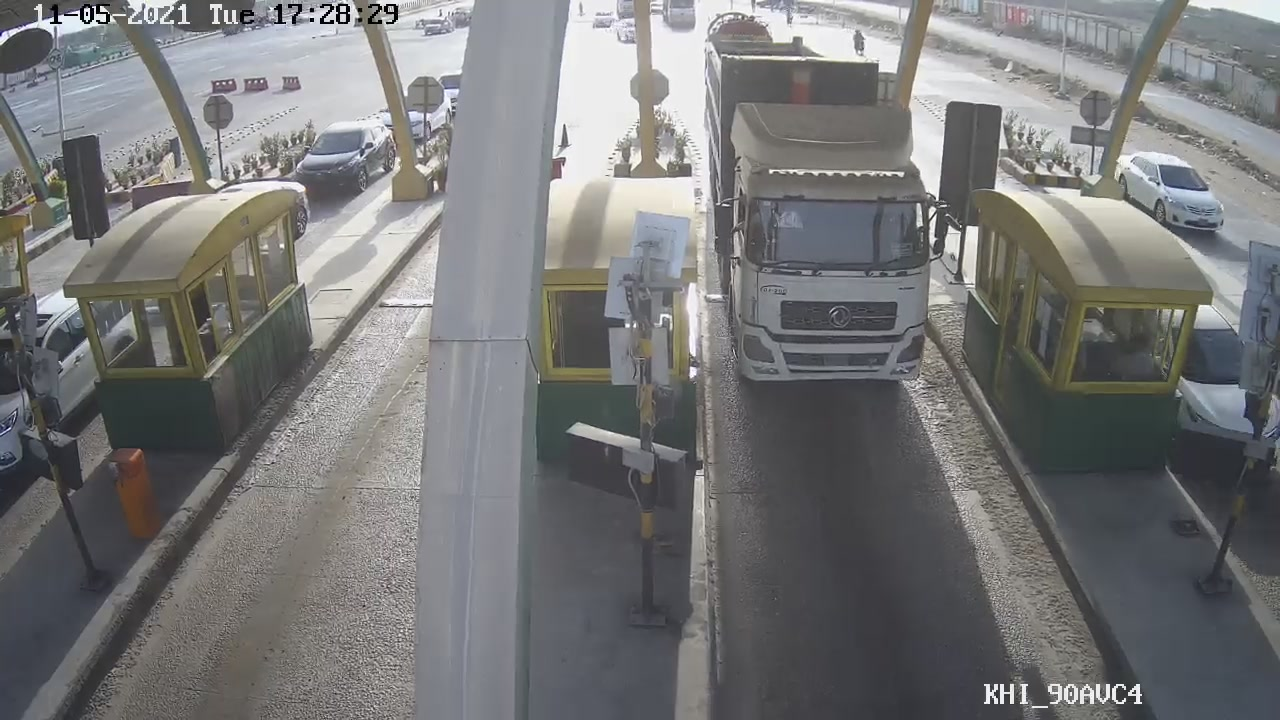F6: (698, 28, 948, 385)
